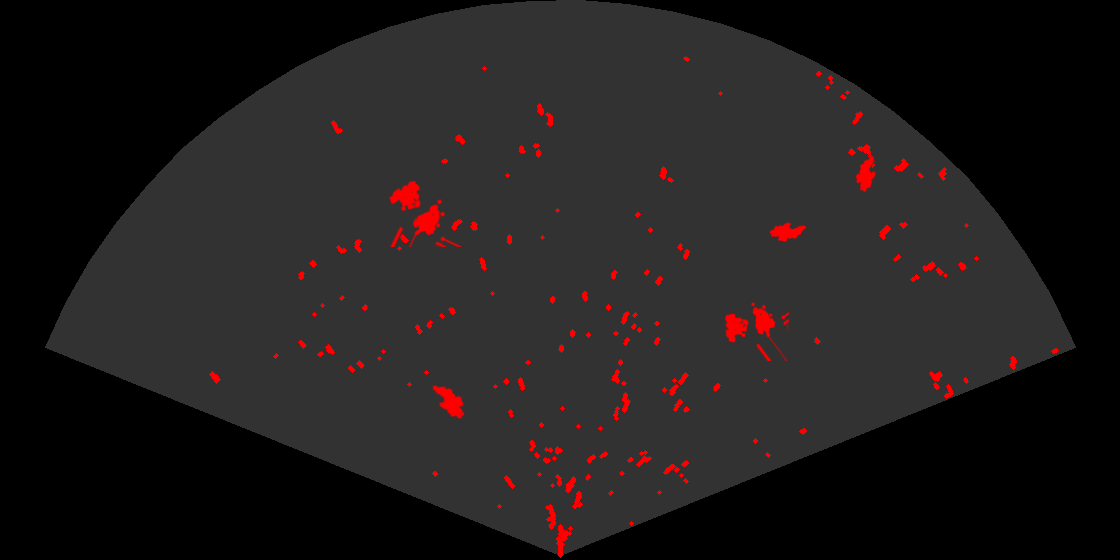AUV: (431, 384, 466, 421), (768, 221, 808, 244), (854, 154, 877, 194)
cage: (387, 179, 464, 247), (723, 301, 789, 361)
